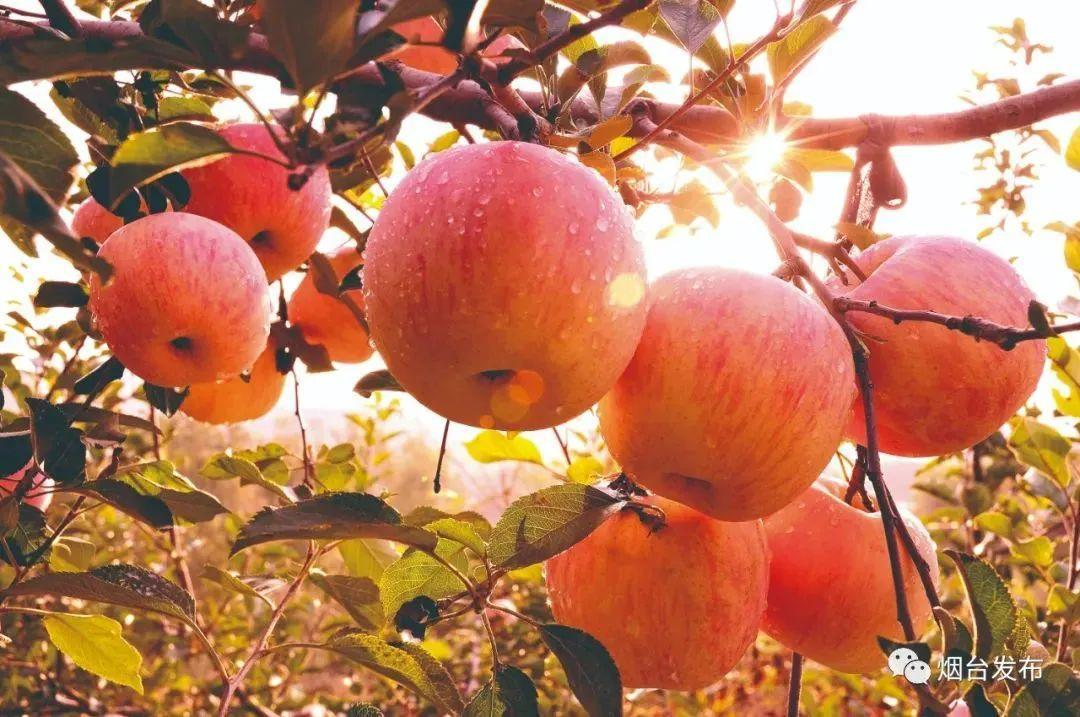apple: (365, 138, 652, 428), (598, 266, 861, 526), (808, 235, 1045, 458), (545, 482, 772, 691), (760, 472, 941, 683), (85, 210, 274, 391), (174, 121, 331, 283)
